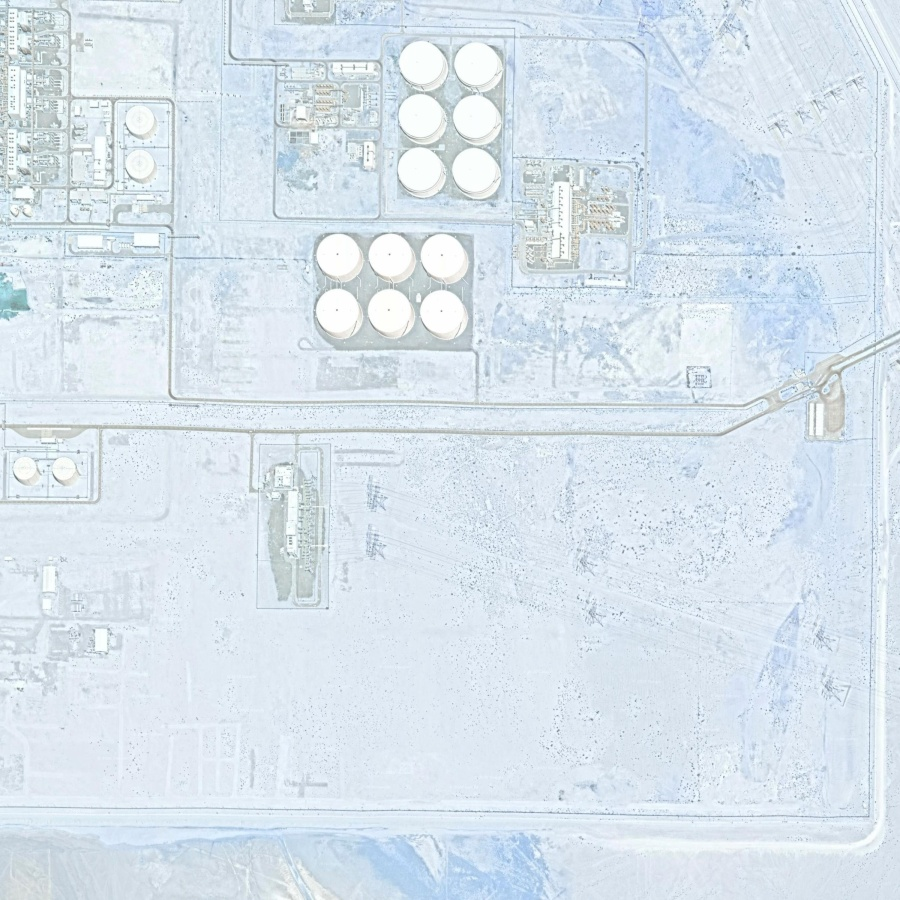PowerPlant: (253, 8, 633, 366)
